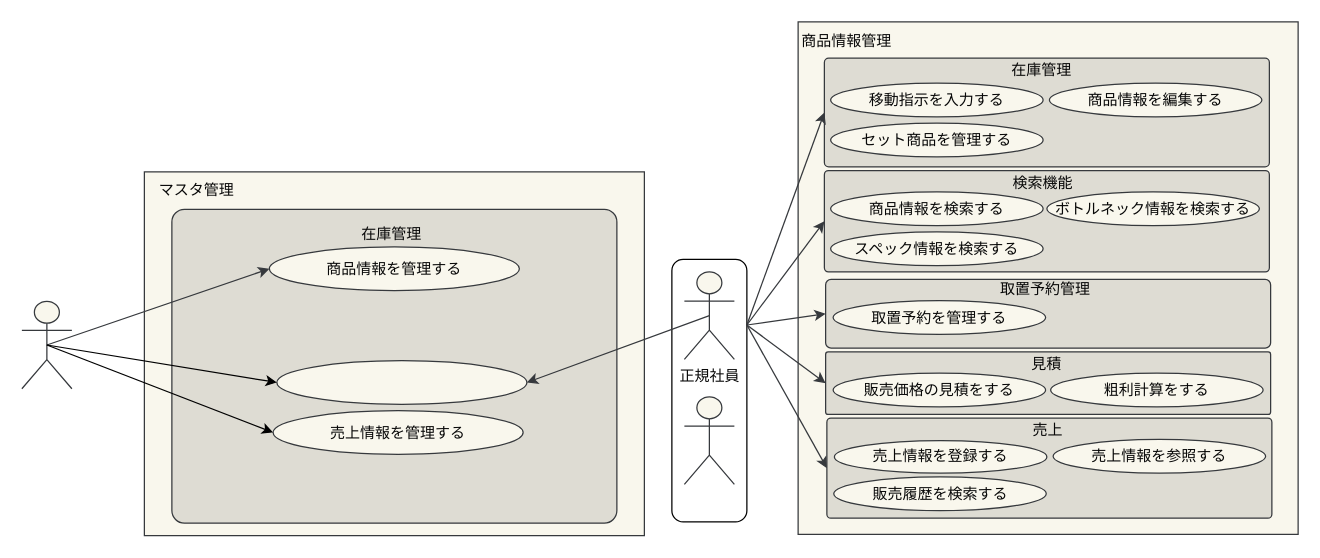
The diagram is 1320 pixels wide and 558 high, and some of its shapes have lost their labels. The shapes that lost their labels are listed below. From the top down, each one's box as (x1, y1, x2, y2) in pixels, then its label:
(21, 300, 72, 389): 管理者
(276, 359, 527, 404): ベンチマークマスタを管理する
(683, 396, 734, 484): 非正規社員
